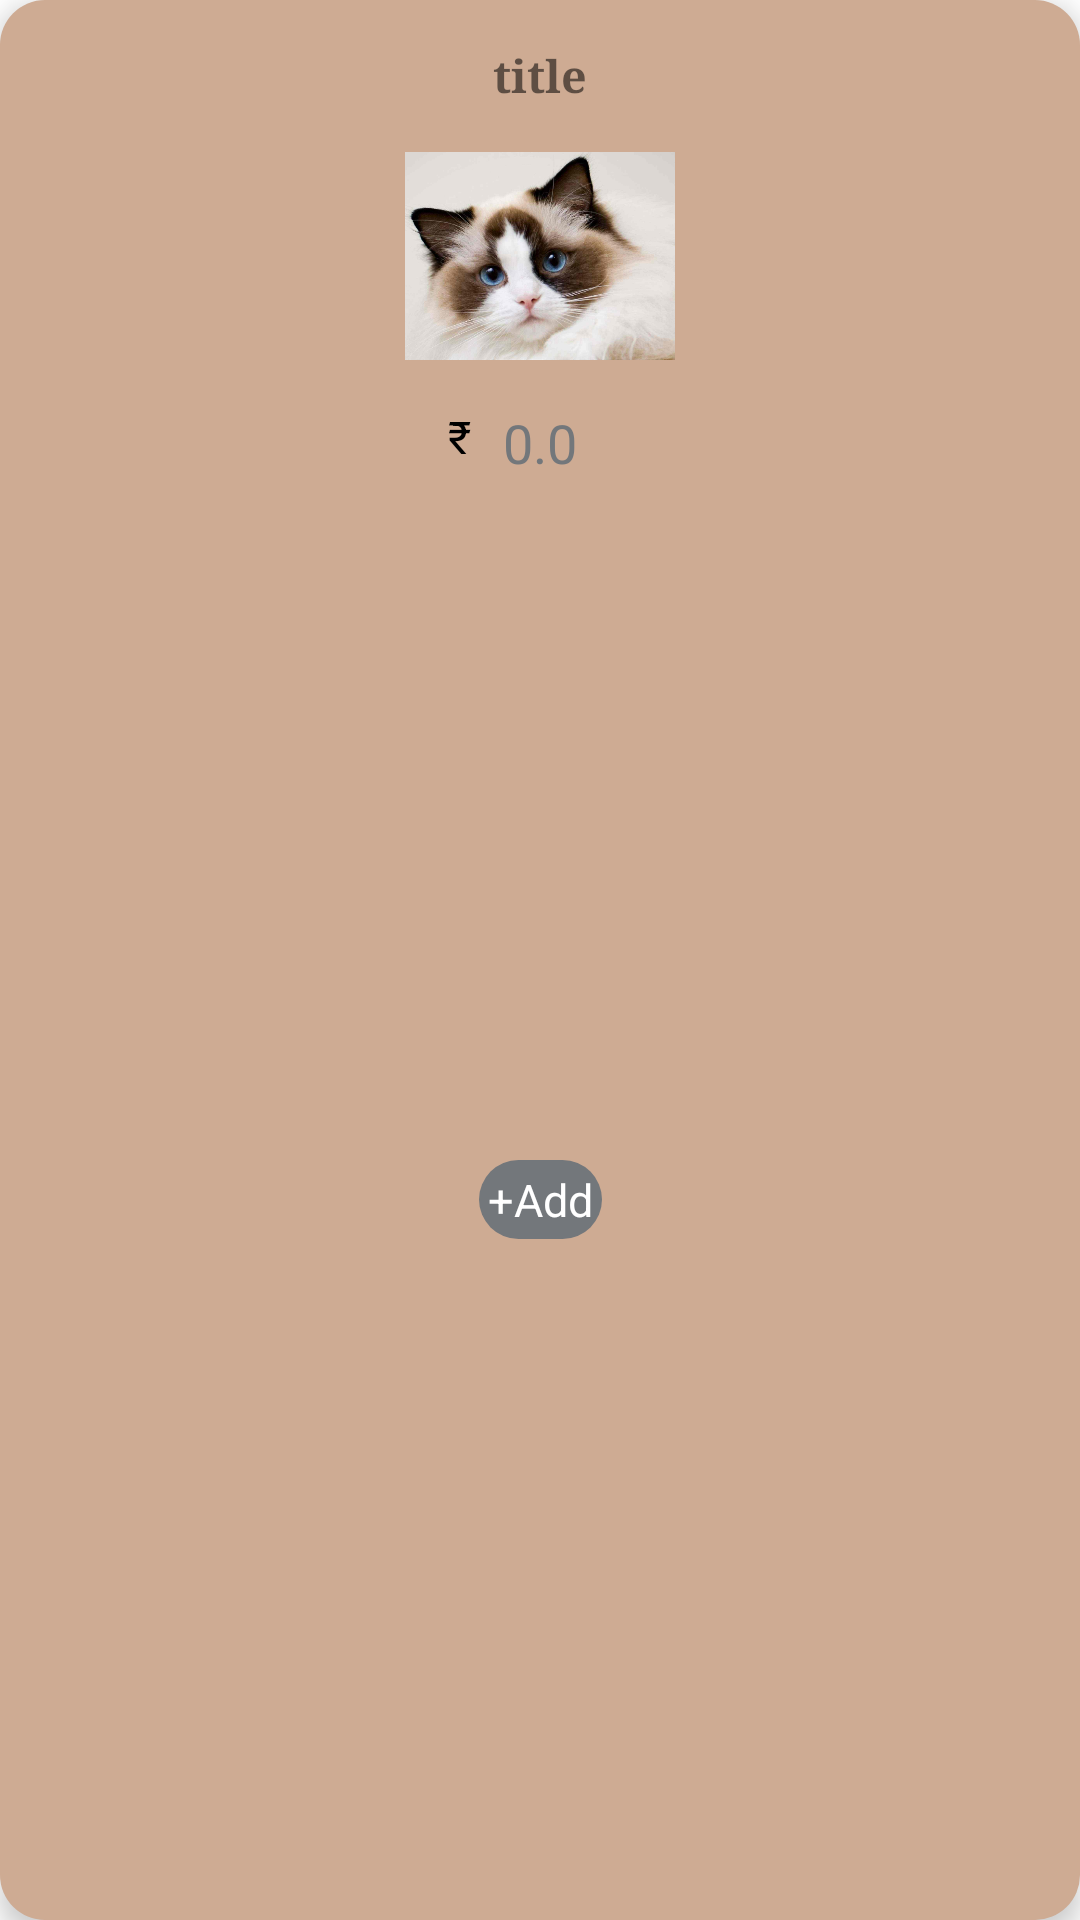

Screen size 1080w x 1920h. Icon name, then its center in pixels as (x=x, y=y):
ragdoll cat: (x=540, y=256)
